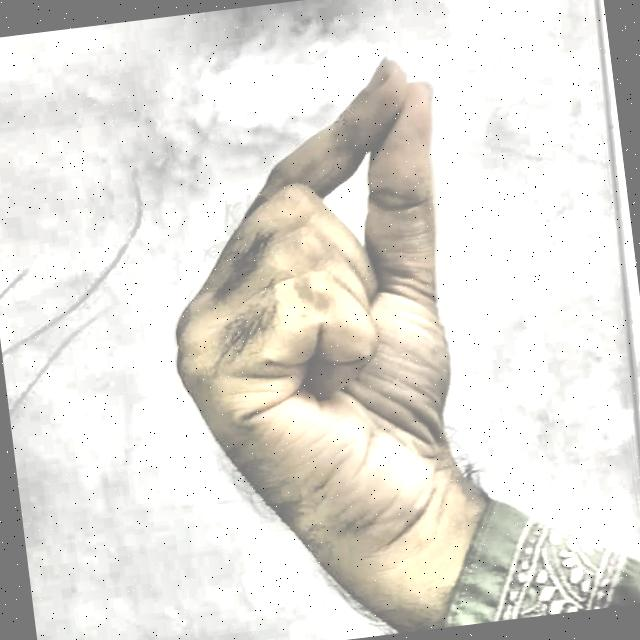Anusshar: (114, 10, 542, 607)
